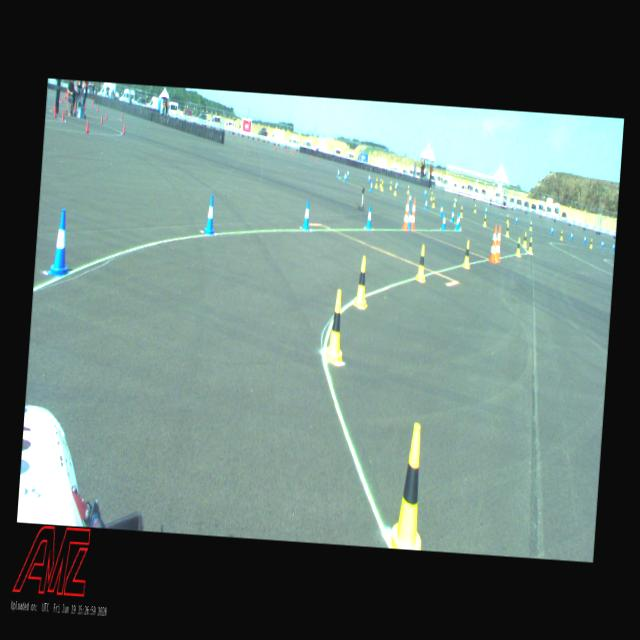blue_cone: (46, 208, 74, 278), (204, 196, 215, 235), (302, 198, 312, 230), (365, 205, 372, 230), (441, 212, 446, 230), (408, 209, 412, 229), (450, 206, 454, 222), (424, 197, 428, 211), (514, 214, 518, 226), (368, 181, 372, 191), (600, 239, 604, 248), (550, 225, 554, 234), (456, 214, 458, 230), (336, 168, 339, 178), (484, 205, 487, 215), (440, 202, 442, 216), (346, 168, 349, 177), (423, 188, 426, 196), (408, 192, 410, 204), (583, 234, 586, 242), (612, 242, 615, 250), (344, 172, 346, 182), (570, 230, 572, 240), (368, 173, 370, 182), (454, 197, 456, 206), (395, 180, 397, 188)
large_orange_cone: (488, 224, 498, 263), (494, 224, 502, 262), (401, 199, 410, 231), (408, 198, 417, 230)
yellow_cone: (389, 422, 432, 550), (324, 288, 346, 364), (352, 255, 370, 308), (414, 242, 428, 282), (462, 240, 471, 268), (514, 236, 520, 256), (526, 235, 532, 252), (494, 238, 498, 262), (522, 230, 526, 247), (373, 176, 378, 188), (459, 205, 463, 218), (388, 180, 392, 190), (378, 178, 382, 188), (528, 221, 532, 230), (381, 179, 384, 191), (483, 214, 486, 225), (472, 204, 476, 212), (589, 238, 592, 247), (406, 184, 409, 193), (506, 223, 508, 236), (432, 196, 434, 207), (394, 184, 396, 194), (430, 191, 432, 200), (506, 214, 508, 223), (560, 230, 562, 238)
